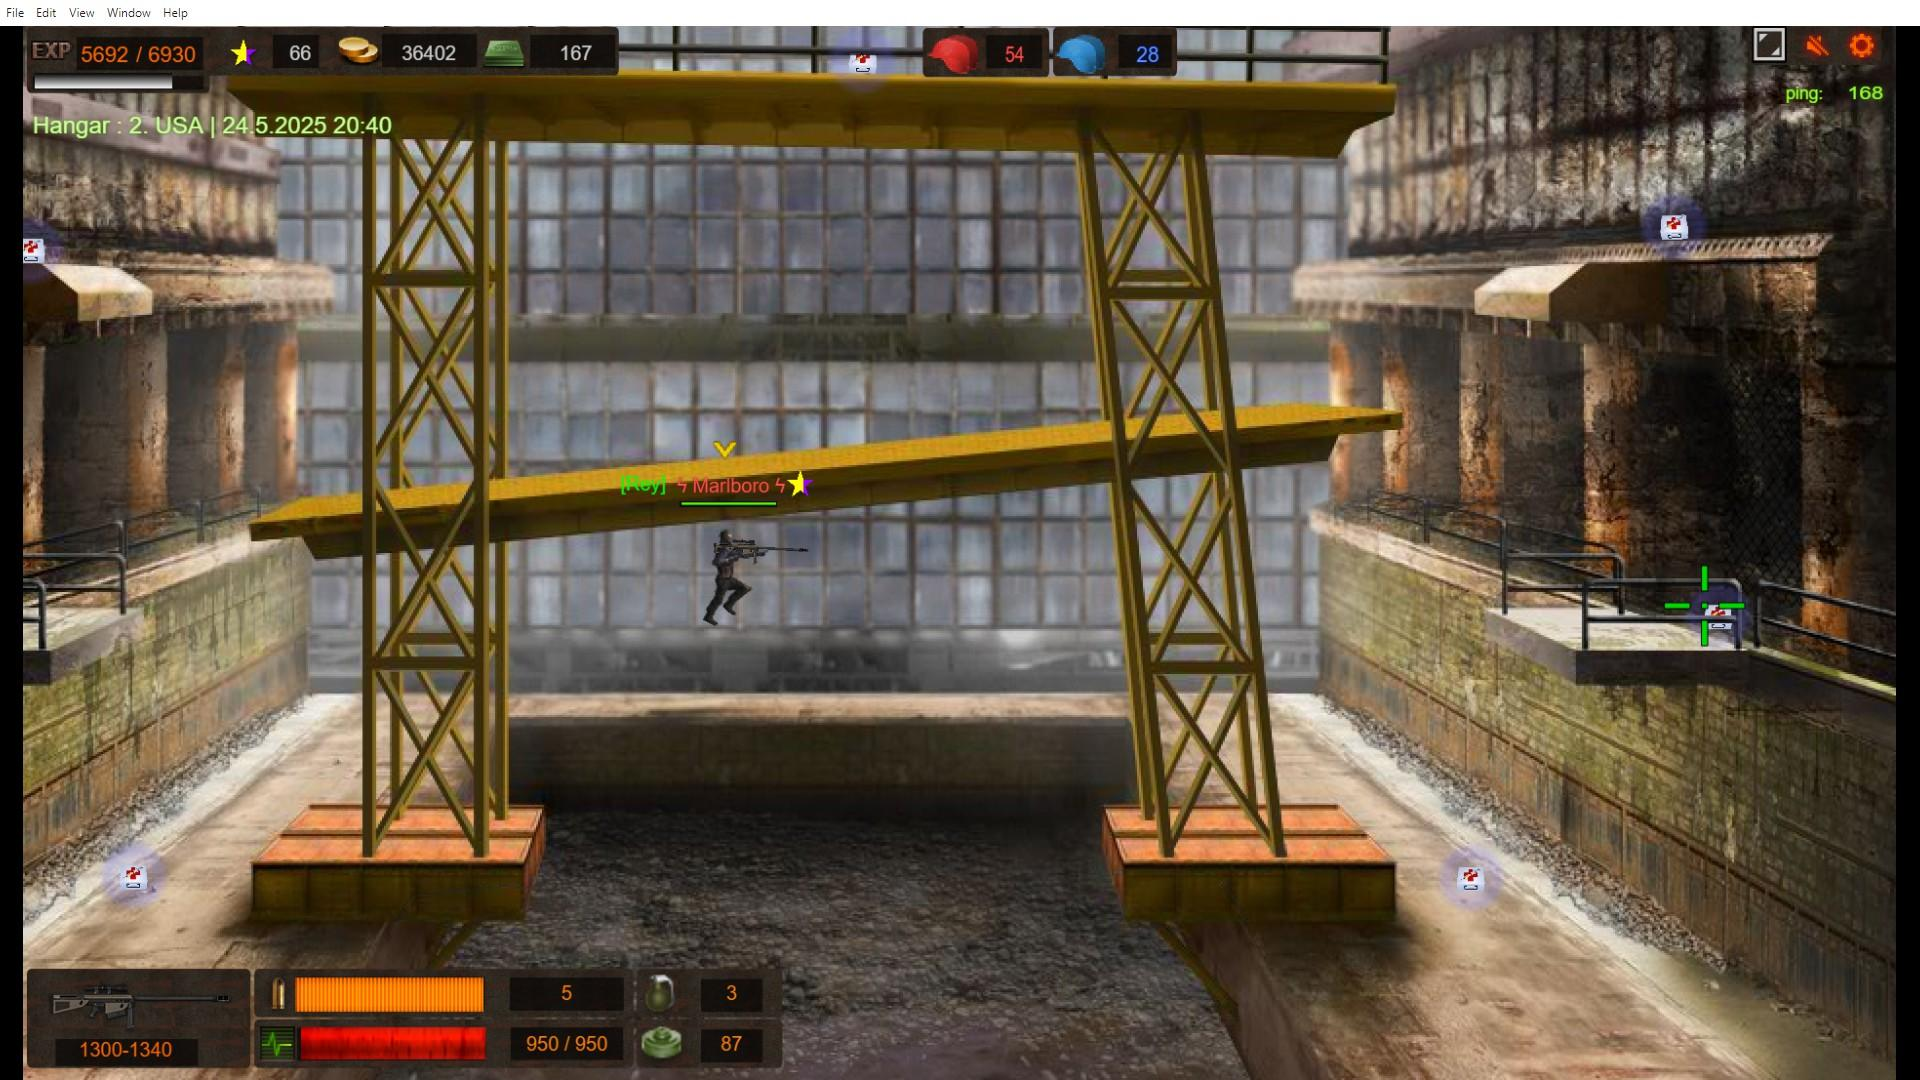enemy: (713, 531, 738, 621)
